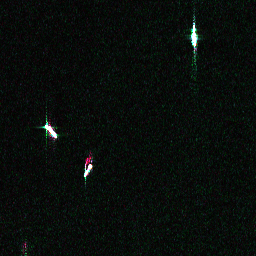ship: (42, 121, 60, 141), (82, 162, 95, 179), (190, 29, 198, 47)
